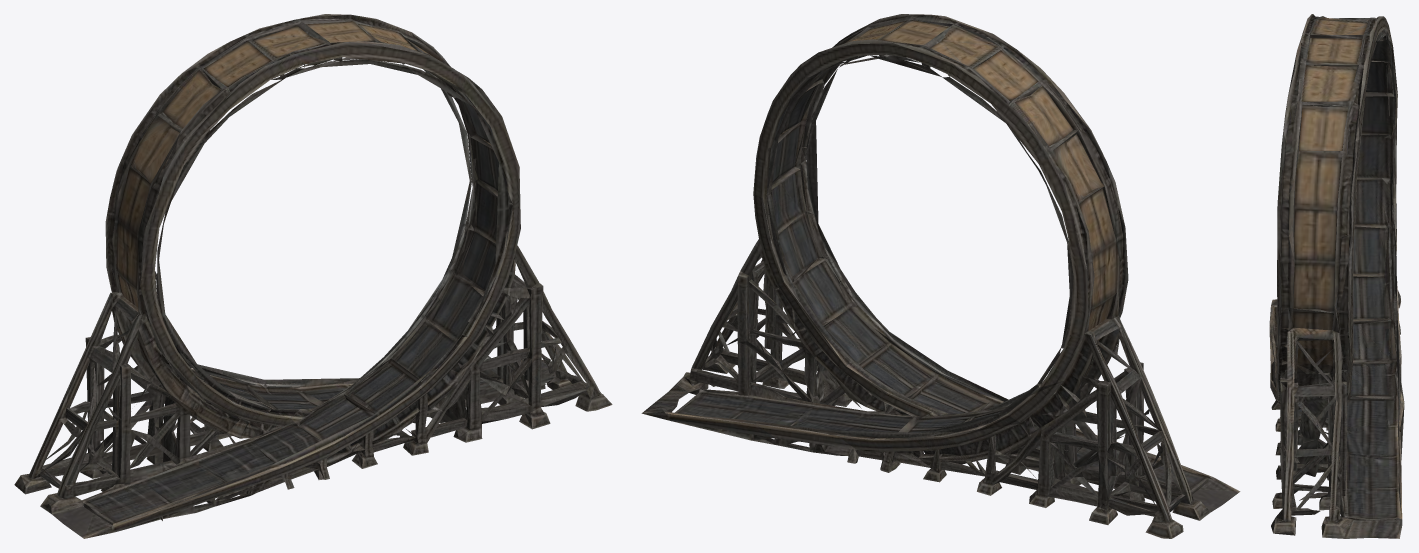
File: stunt-loop-ramp.glb
3 renders of one model, left to right at view 1: azimuth 30°, elevation 25°; view 2: azimuth 150°, elevation 25°; view 3: azimuth 270°, elevation 25°, orthographic. The views are drawn at different scales.
Size of the model in its own units: 1.91 by 1.44 by 0.4528.
Materials: 1 (1 with a texture image).
